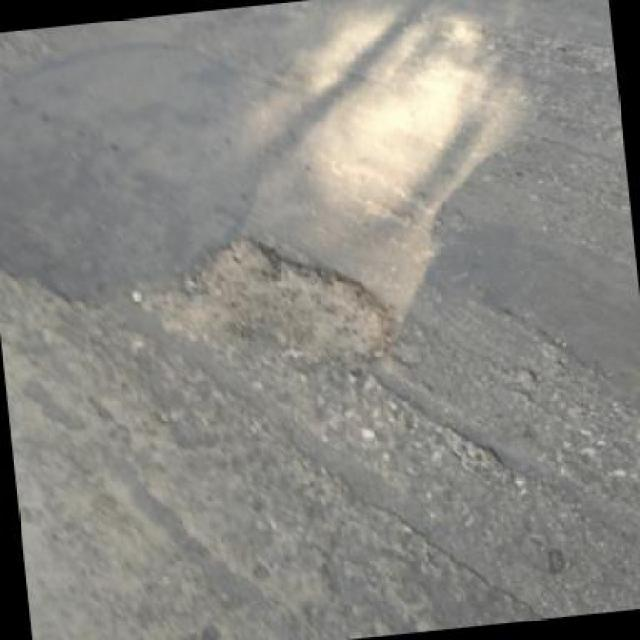pothole1: (124, 218, 393, 392)
